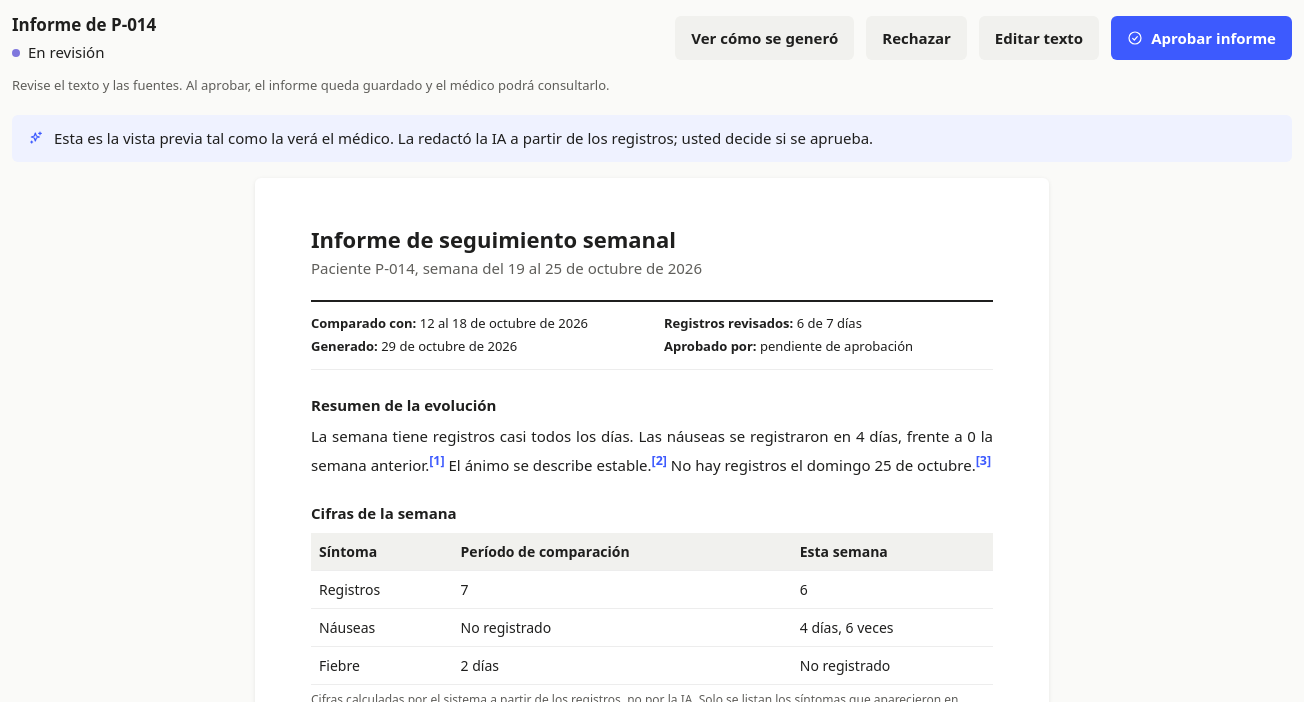
Test: ReportViewComponent (vInfVer y hojaHTML del mockup) › edicion › guarda lo editado: texto nuevo, una fuente quitada y otra agregada
Click the button "Editar texto" at (1039, 38), box [979,16,1099,60]
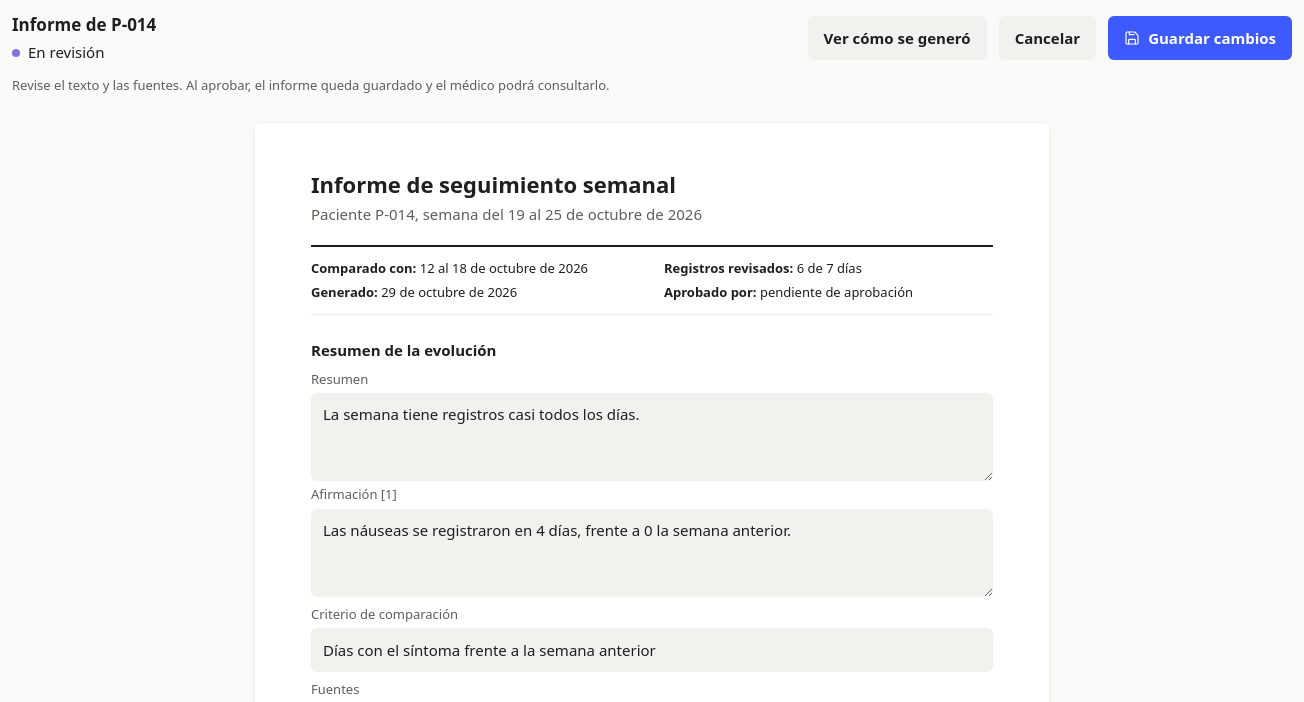
Replace the text in the text box with id "ie-texto-0" with "Las náuseas se registraron en 4 días." at (652, 553), box [311,509,993,597]
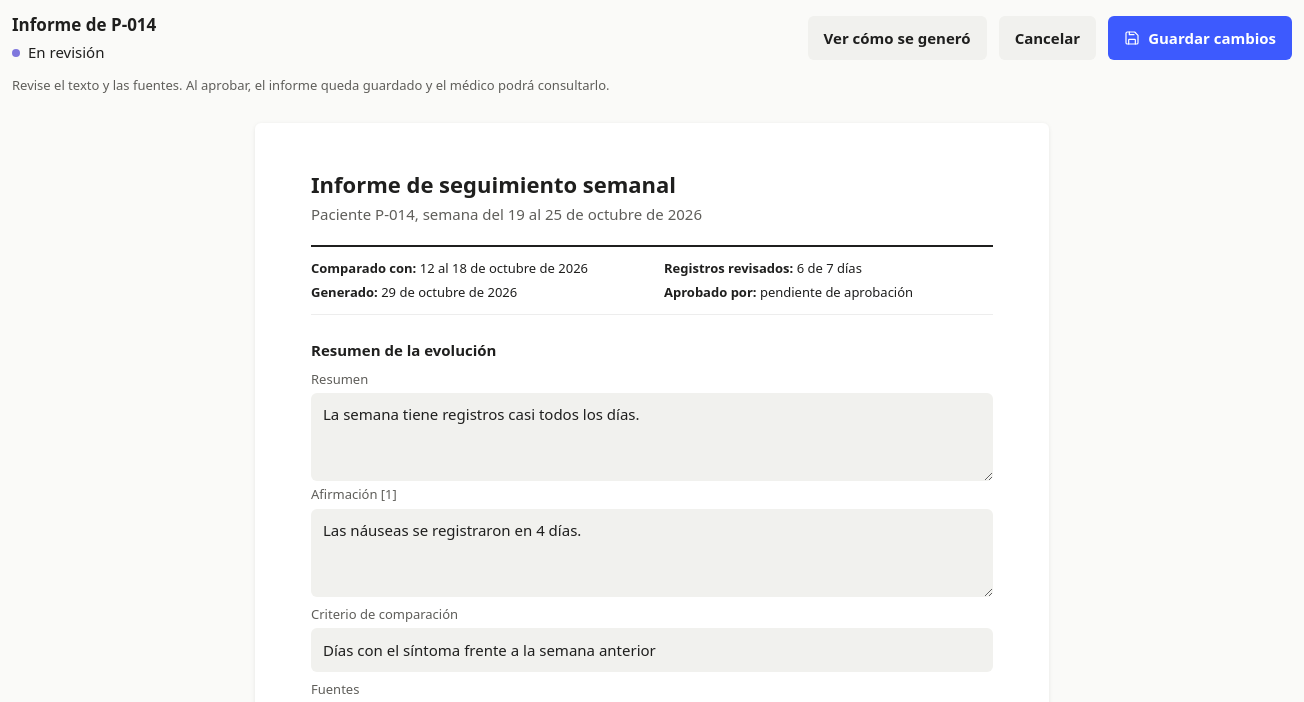
Replace the text in the field with id "ie-criterio-0" with "Días con el síntoma esta semana" at (652, 650), box [311,628,993,672]
(page scrolled)
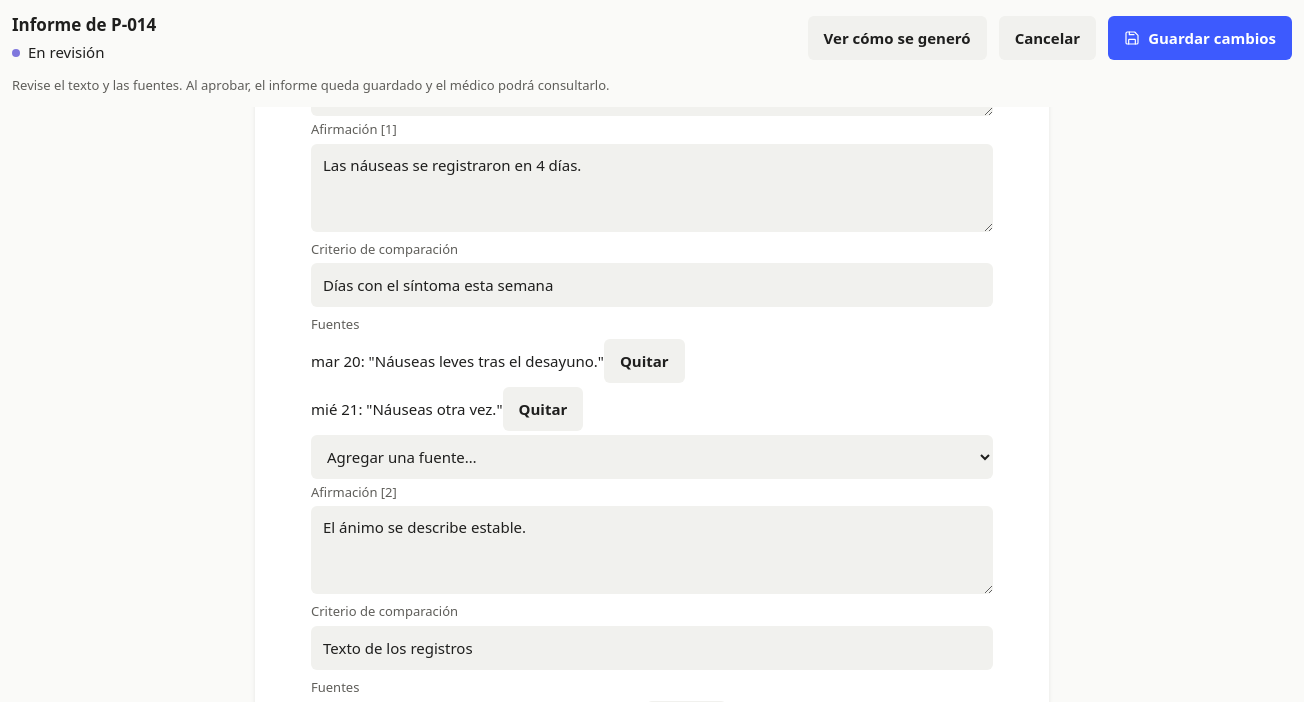
Click the 1st button "Quitar" at (644, 361), box [604,339,685,383]
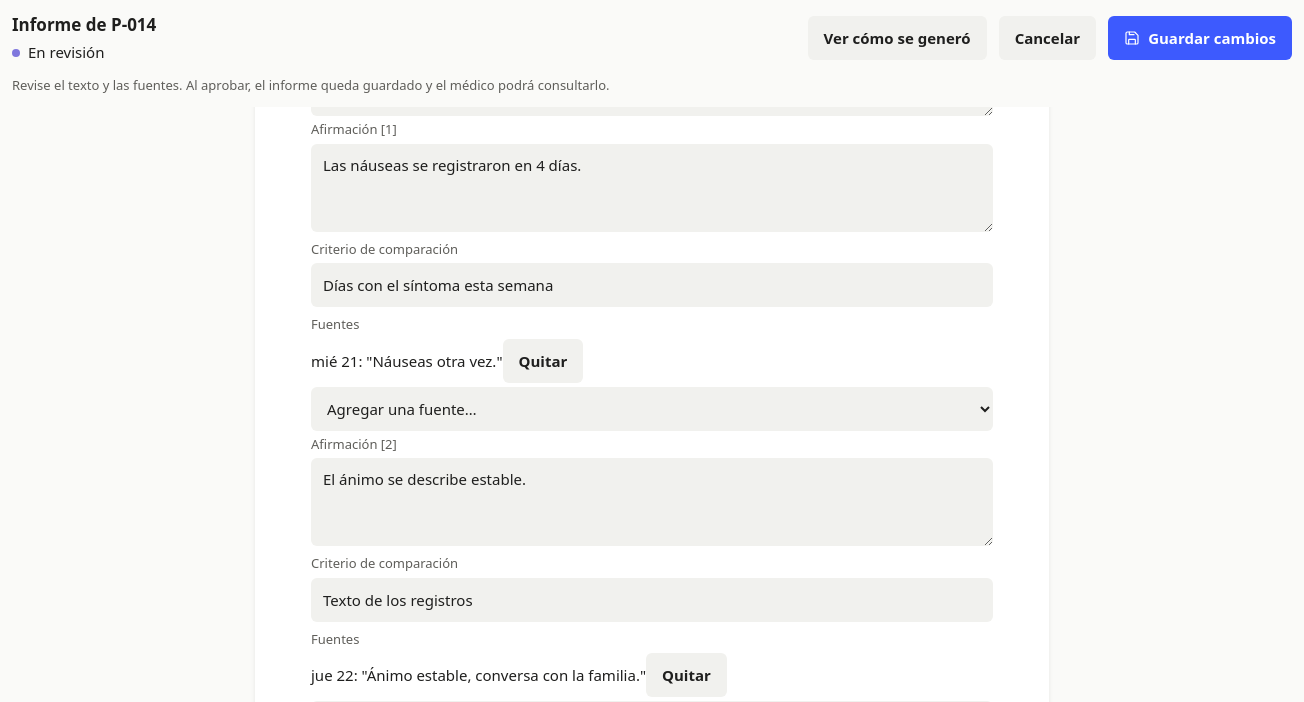
Select "vie 23: \"Comió poco en el almuerzo.\"" in the dropdown named "Agregar una fuente a la afirmación 1" at (652, 409), box [311,387,993,431]
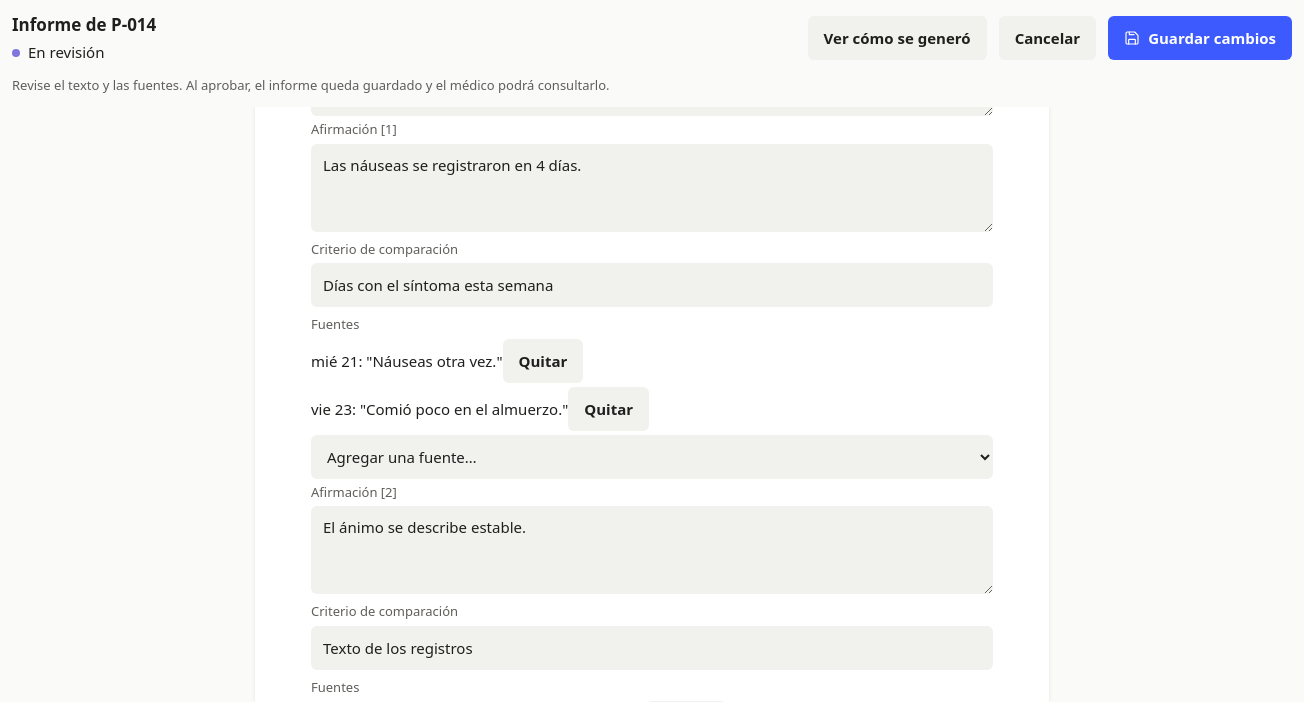
Click the button "Guardar cambios" at (1200, 38), box [1108,16,1292,60]
(page scrolled)
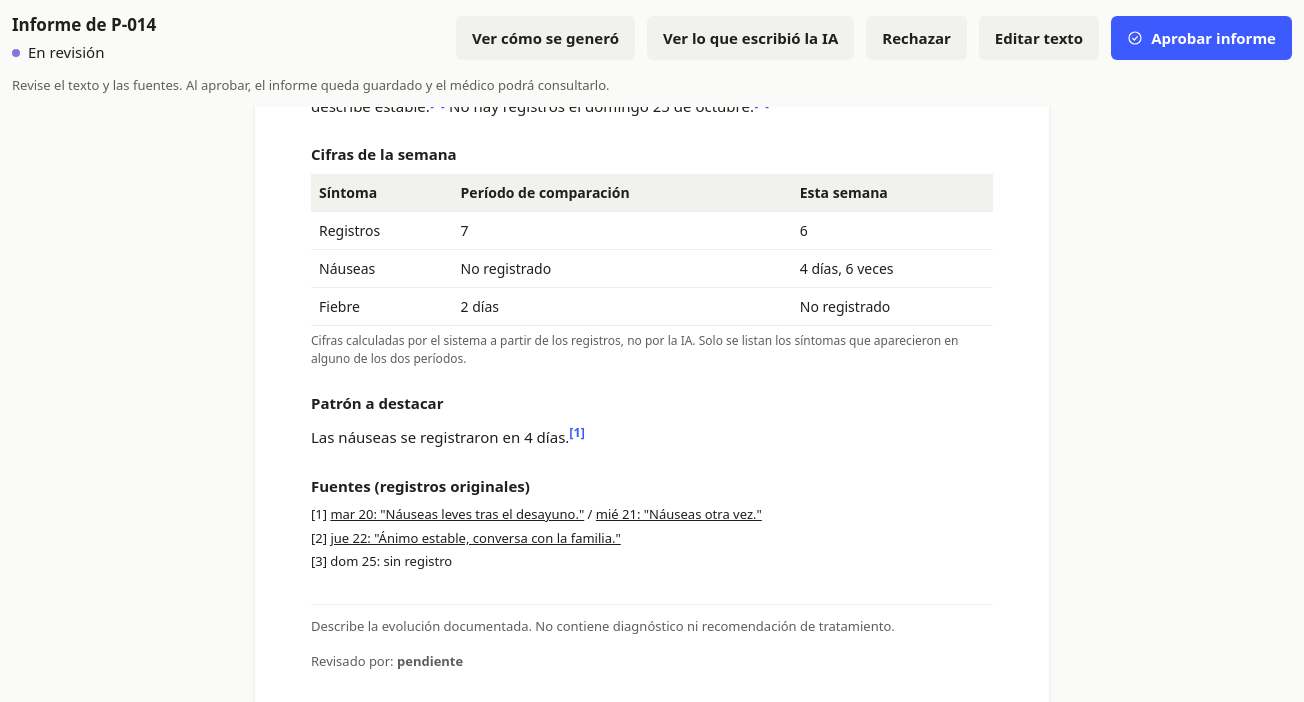
Expected: the element with class "resumen" shows "Las náuseas se registraron en 4 días.[1]", [311,62,993,119]
Expected: the button "Ver lo que escribió la IA" is shown, [647,16,854,60]
